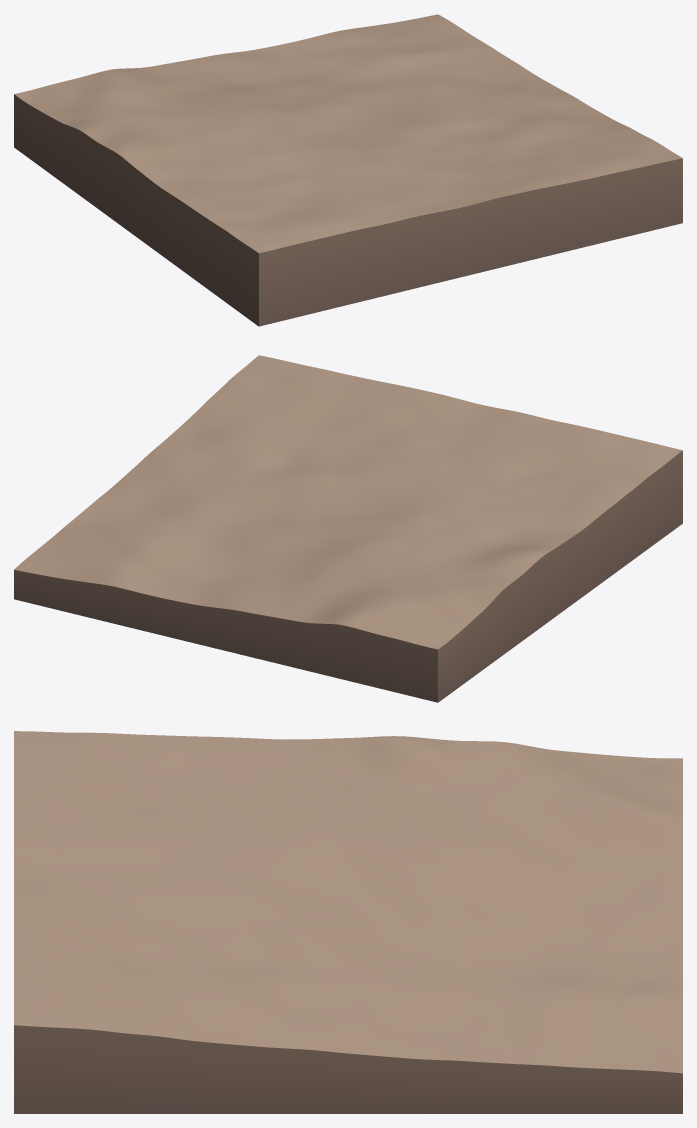
File: dock.glb
The picture shows the model from 3 angles, top to bottom: view 1: azimuth 30°, elevation 25°; view 2: azimuth 150°, elevation 25°; view 3: azimuth 270°, elevation 25°; orthographic projection. The views are drawn at different scales.
Parts seen in each view (by area): view 1: dock; view 2: dock; view 3: dock.
Part boxes in pixels (bbox=[...]): dock: bbox=[14, 14, 682, 326]; dock: bbox=[14, 355, 682, 702]; dock: bbox=[14, 731, 682, 1113].
Bounding box in the file's own units: 59.94 × 9.9 × 59.94.
